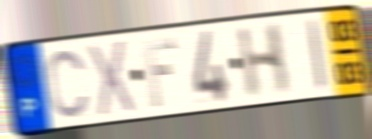4: (191, 27, 231, 105)
C: (45, 47, 92, 121)
F: (141, 36, 179, 110)
H: (235, 20, 292, 102)
I: (305, 15, 329, 92)
X: (86, 37, 137, 119)
